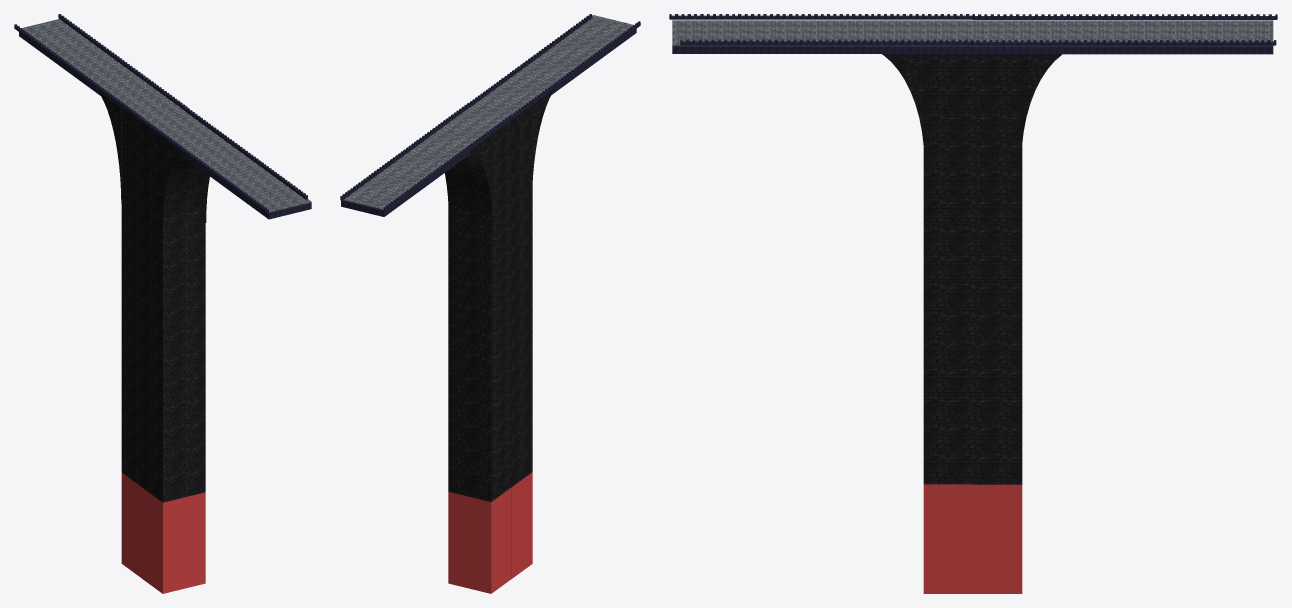
Rendered from aqueduct_basic.glb.
3 renders of one model, left to right at view 1: azimuth 30°, elevation 25°; view 2: azimuth 150°, elevation 25°; view 3: azimuth 270°, elevation 25°, orthographic. The views are drawn at different scales.
Parts seen in each view (by area): view 1: block (×2), floor (×2), halfPipe_half (×2); view 2: block (×2), floor (×2), halfPipe_half (×2); view 3: block (×2), floor (×2), halfPipe_half (×2).
Part boxes in pixels (x1=…): block (×2): x1=121, y1=108, x2=205, y2=593; floor (×2): x1=19, y1=19, x2=311, y2=219; halfPipe_half (×2): x1=94, y1=87, x2=209, y2=222; block (×2): x1=448, y1=105, x2=532, y2=593; floor (×2): x1=341, y1=15, x2=636, y2=216; halfPipe_half (×2): x1=444, y1=88, x2=555, y2=231; block (×2): x1=923, y1=54, x2=1022, y2=593; floor (×2): x1=672, y1=20, x2=1273, y2=54; halfPipe_half (×2): x1=882, y1=54, x2=1061, y2=157.
Size of the model in its own units: 20.63 by 196 by 195.
Materials: 105 (103 with a texture image).
